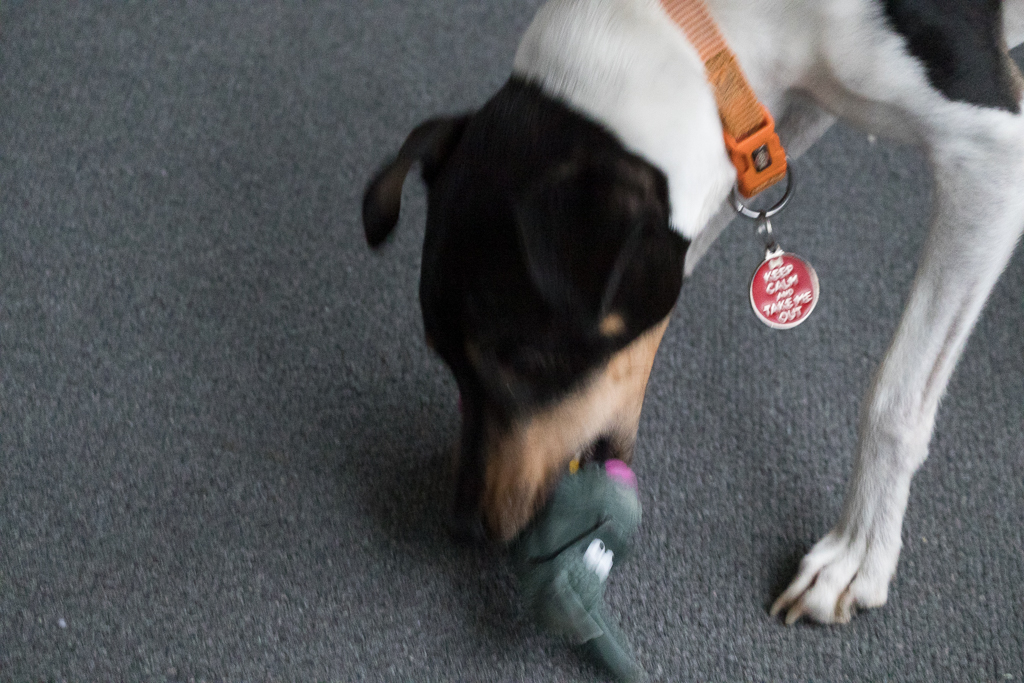Dog: (346, 0, 1024, 637)
Humanoid: (442, 367, 664, 683)
